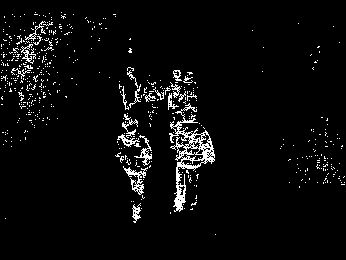person: (172, 106, 209, 214), (118, 114, 150, 222), (143, 71, 167, 116), (120, 63, 143, 109), (184, 70, 200, 122), (170, 68, 184, 117)
